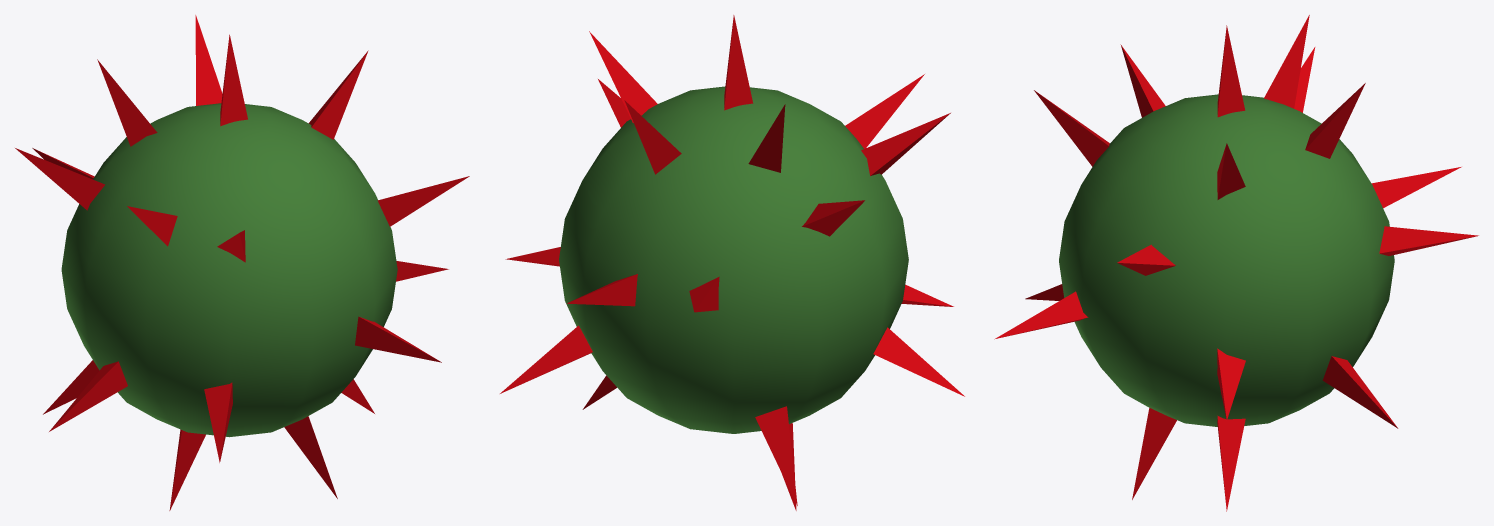
Rendered from FruttoSpinato.fbx.
3 views of the same model, side by side, from view 1: azimuth 30°, elevation 25°; view 2: azimuth 150°, elevation 25°; view 3: azimuth 270°, elevation 25° (orthographic). The views are drawn at different scales.
Visible parts, largest first — view 1: Frutto, Cone.017, Cone.026, Cone.019, Cone.018, Cone.027, Cone.013, Cone.024, Cone.009, Cone.022, Cone.012, Cone.016 (+3 smaller); view 2: Frutto, Cone.011, Cone.015, Cone.010, Cone.017, Cone.014, Cone.018, Cone.009, Cone.024, Cone.025, Cone.026, Cone.027 (+4 smaller); view 3: Frutto, Cone.010, Cone.025, Cone.027, Cone.024, Cone.012, Cone.019, Cone.014, Cone.020, Cone.009, Cone.023, Cone.021 (+4 smaller).
Boxes of the visible parts, box(x1,y1,x2,y2) form: Frutto: box(61, 103, 397, 437); Cone.017: box(49, 361, 127, 431); Cone.026: box(15, 148, 104, 210); Cone.019: box(355, 316, 441, 362); Cone.018: box(308, 50, 368, 139); Cone.027: box(97, 59, 157, 146); Cone.013: box(377, 176, 469, 226); Cone.024: box(195, 15, 222, 105); Cone.009: box(220, 34, 247, 126); Cone.022: box(204, 382, 232, 462); Cone.012: box(284, 416, 337, 498); Cone.016: box(169, 429, 205, 510); Frutto: box(559, 86, 908, 433); Cone.011: box(755, 406, 797, 505); Cone.015: box(861, 113, 950, 175); Cone.010: box(500, 325, 592, 393); Cone.017: box(873, 327, 964, 396); Cone.014: box(845, 74, 924, 148); Cone.018: box(589, 31, 657, 122); Cone.009: box(724, 15, 753, 110); Cone.024: box(624, 100, 681, 174); Cone.025: box(567, 274, 637, 306); Cone.026: box(802, 200, 864, 236); Cone.027: box(748, 104, 785, 172); Frutto: box(1059, 94, 1394, 426); Cone.010: box(1322, 356, 1398, 428); Cone.025: box(1379, 226, 1478, 255); Cone.027: box(1264, 15, 1309, 108); Cone.024: box(1305, 83, 1365, 158); Cone.012: box(1132, 408, 1176, 499); Cone.019: box(994, 291, 1088, 339); Cone.014: box(1034, 90, 1109, 166); Cone.020: box(1217, 415, 1245, 511); Cone.009: box(1217, 25, 1245, 117); Cone.023: box(1371, 167, 1461, 208); Cone.021: box(1217, 348, 1245, 420).
Size of the model in its own units: 183 by 192 by 183.
